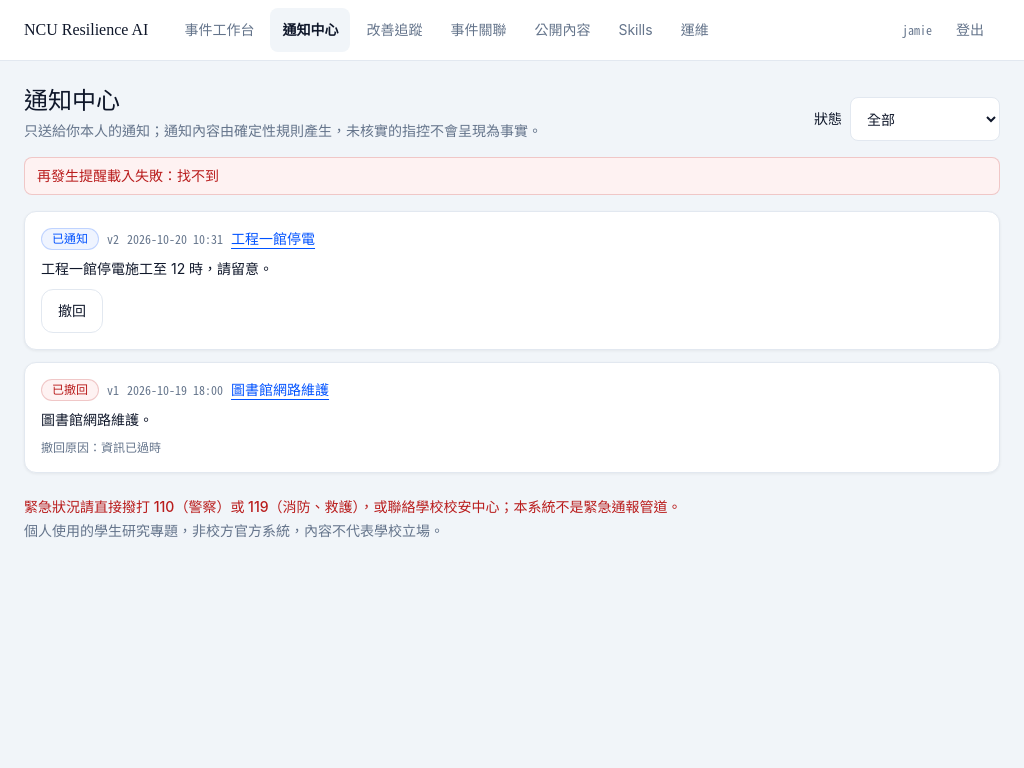
Test case: AlertCenter › 撤回需要原因，成功後更新狀態
The width and height of the screenshot is (1024, 768).
Click the button "撤回". click: (72, 311)
box: [41, 289, 103, 333]
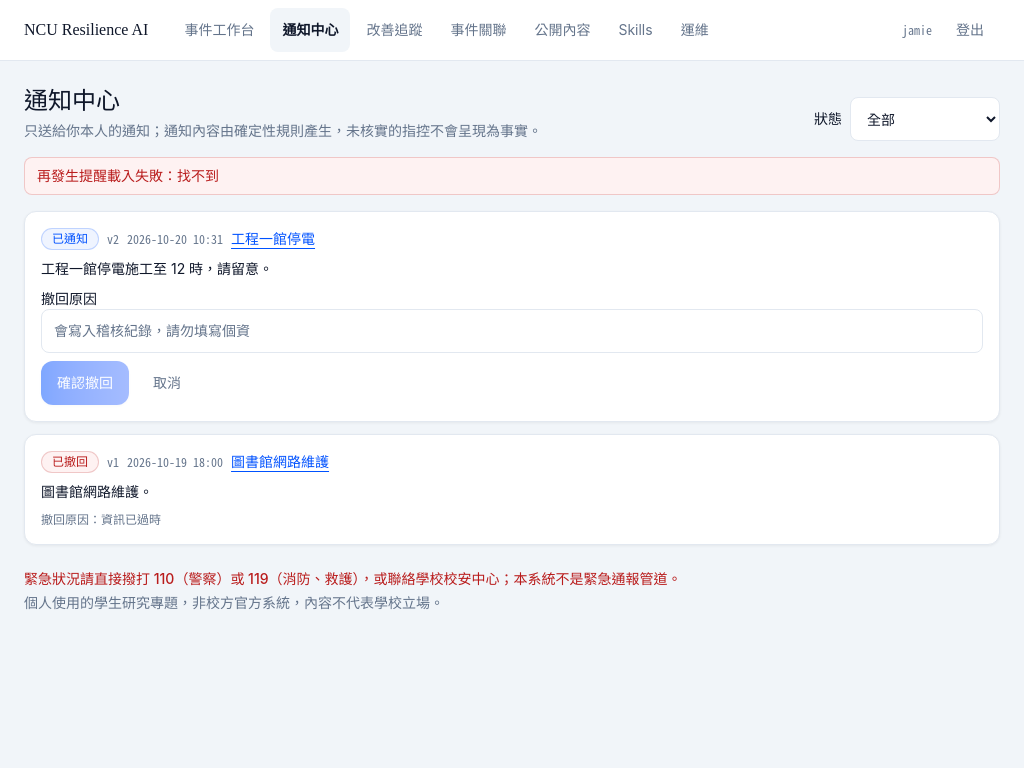
Result: the button "確認撤回" is disabled at [41, 361, 129, 405]
Type "停電已取消" into the field labelled "撤回原因". click: (512, 331)
box: [41, 309, 983, 353]
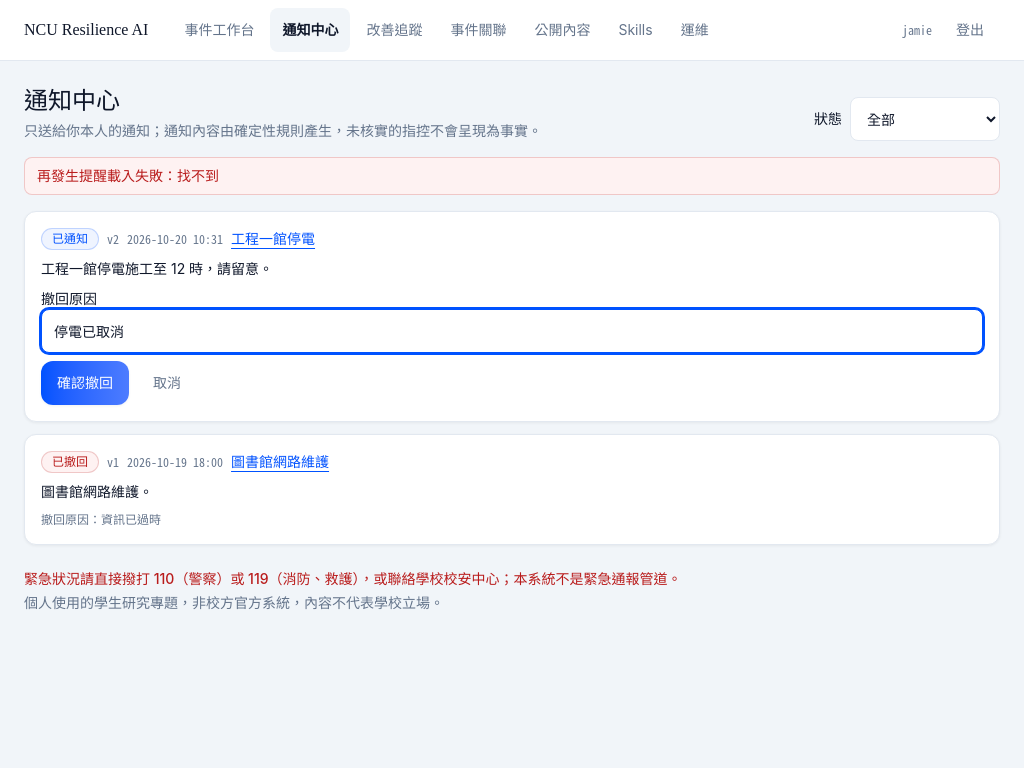
Click the button "確認撤回". click: (85, 383)
box: [41, 361, 129, 405]
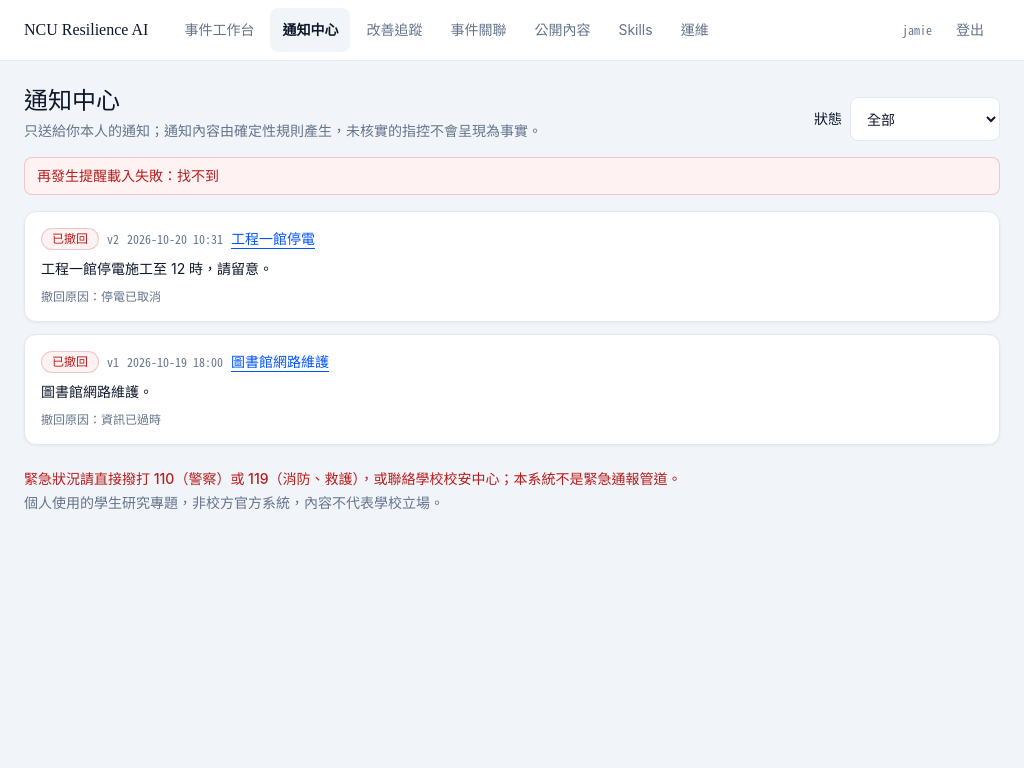
Result: the text "已撤回" next to "v2" is shown at [52, 231, 88, 246]
